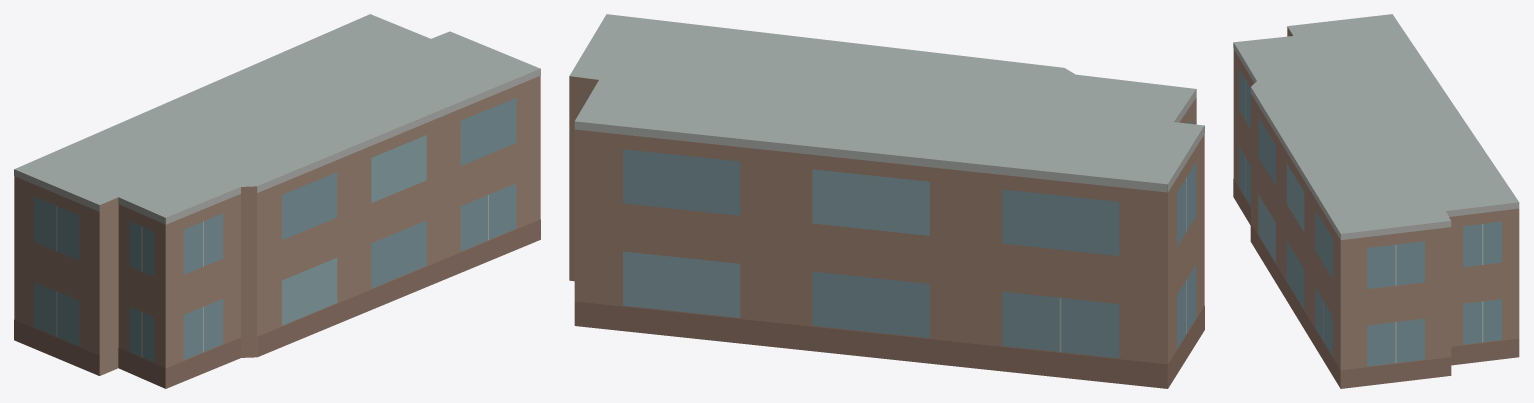
Rendered from survey-upis-32655315.glb.
3 renders of one model, left to right at view 1: azimuth 30°, elevation 25°; view 2: azimuth 150°, elevation 25°; view 3: azimuth 270°, elevation 25°, orthographic. The views are drawn at different scales.
Parts seen in each view (by area): view 1: survey-upis-32655315.tmp; view 2: survey-upis-32655315.tmp; view 3: survey-upis-32655315.tmp.
Part boxes in pixels (left/top/right/bottom): survey-upis-32655315.tmp: left=14, top=14, right=540, bottom=388; survey-upis-32655315.tmp: left=569, top=14, right=1204, bottom=388; survey-upis-32655315.tmp: left=1233, top=14, right=1519, bottom=388.
Bounding box in the file's own units: 18.6 × 6.1 × 10.21.
